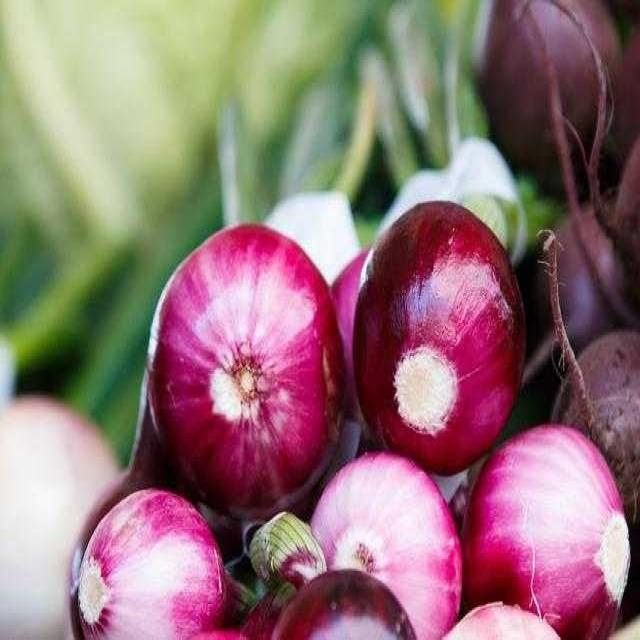onion: (146, 222, 346, 518), (355, 198, 526, 478), (461, 420, 631, 640), (477, 2, 640, 198), (311, 449, 464, 640), (77, 487, 231, 640), (516, 200, 640, 377), (269, 568, 418, 640), (332, 248, 370, 427)
